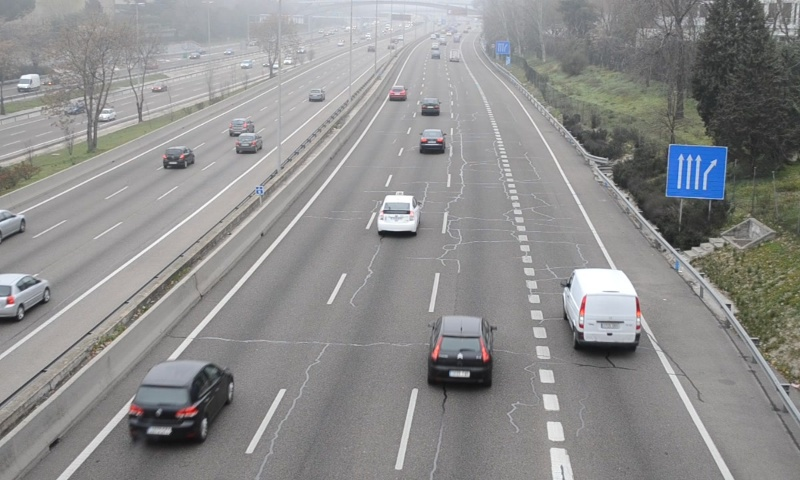car: (128, 360, 234, 444), (428, 316, 491, 382), (377, 194, 420, 232), (418, 128, 445, 151), (420, 96, 440, 115), (388, 84, 408, 101)
van: (565, 268, 641, 351)
